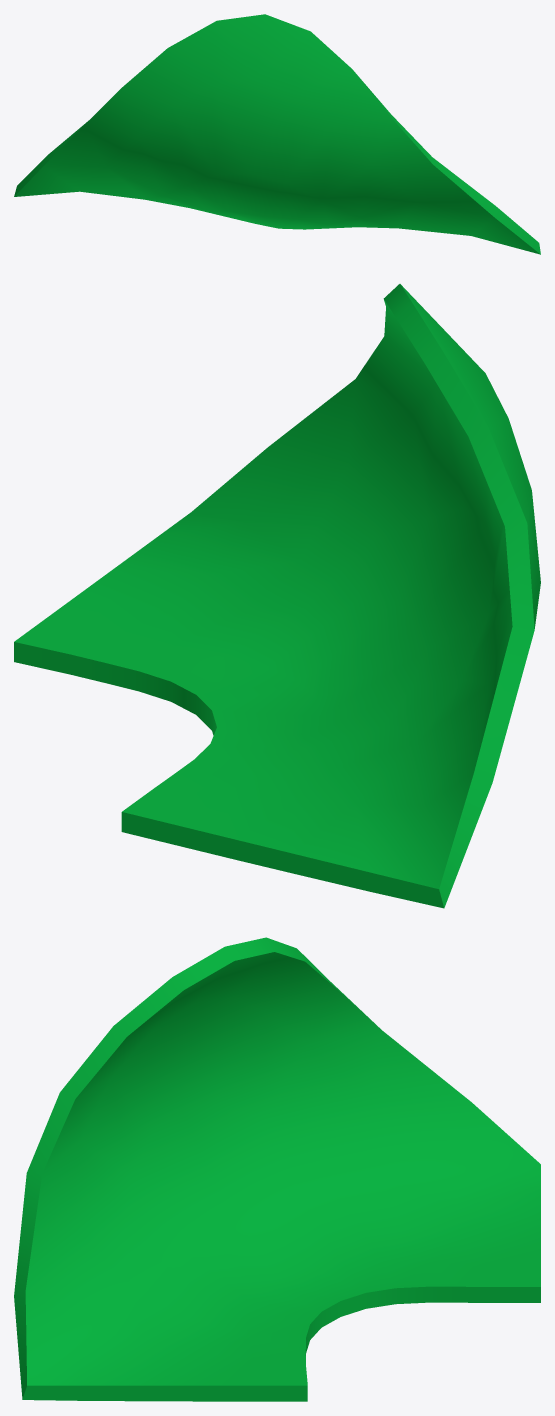
File: basic_concave_corner.gltf
3 views of the same model, one above another, from view 1: azimuth 30°, elevation 25°; view 2: azimuth 150°, elevation 25°; view 3: azimuth 270°, elevation 25° (orthographic). The views are drawn at different scales.
Parts seen in each view (by area): view 1: basic_concave_corner_glb; view 2: basic_concave_corner_glb; view 3: basic_concave_corner_glb.
Part boxes in pixels (<box>): basic_concave_corner_glb: <box>14,14,540,254</box>; basic_concave_corner_glb: <box>14,284,540,908</box>; basic_concave_corner_glb: <box>14,937,540,1401</box>.
Size of what is drawn, in the model's own units: 7.28 by 4.89 by 7.26.
Materials: 1 (1 with a texture image).
